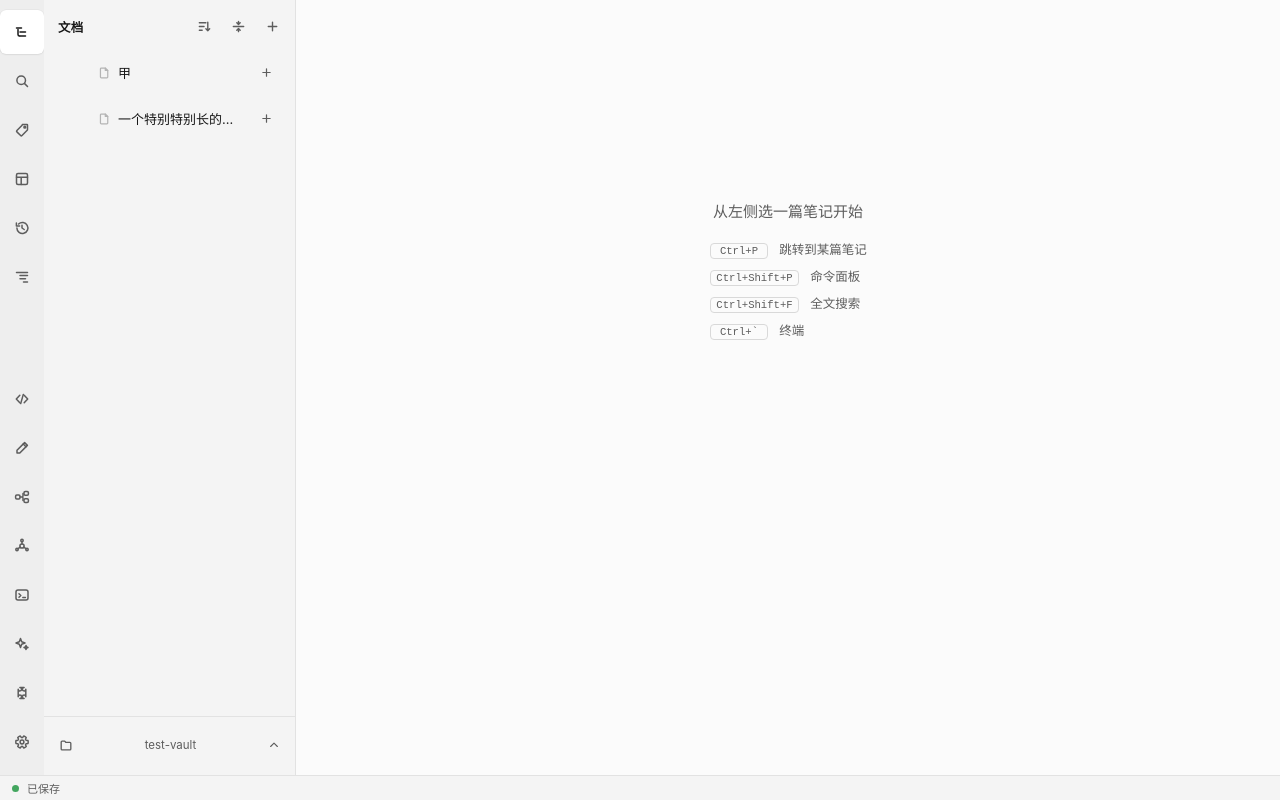
Test: 文档图标 › 右键 → 设置图标 → 选一个，写进 frontmatter 并显示在树上
This screenshot has width=1280, height=800.
Right-click the element with class "tree-row" showing "甲" at [188, 72], box [94, 50, 282, 94]
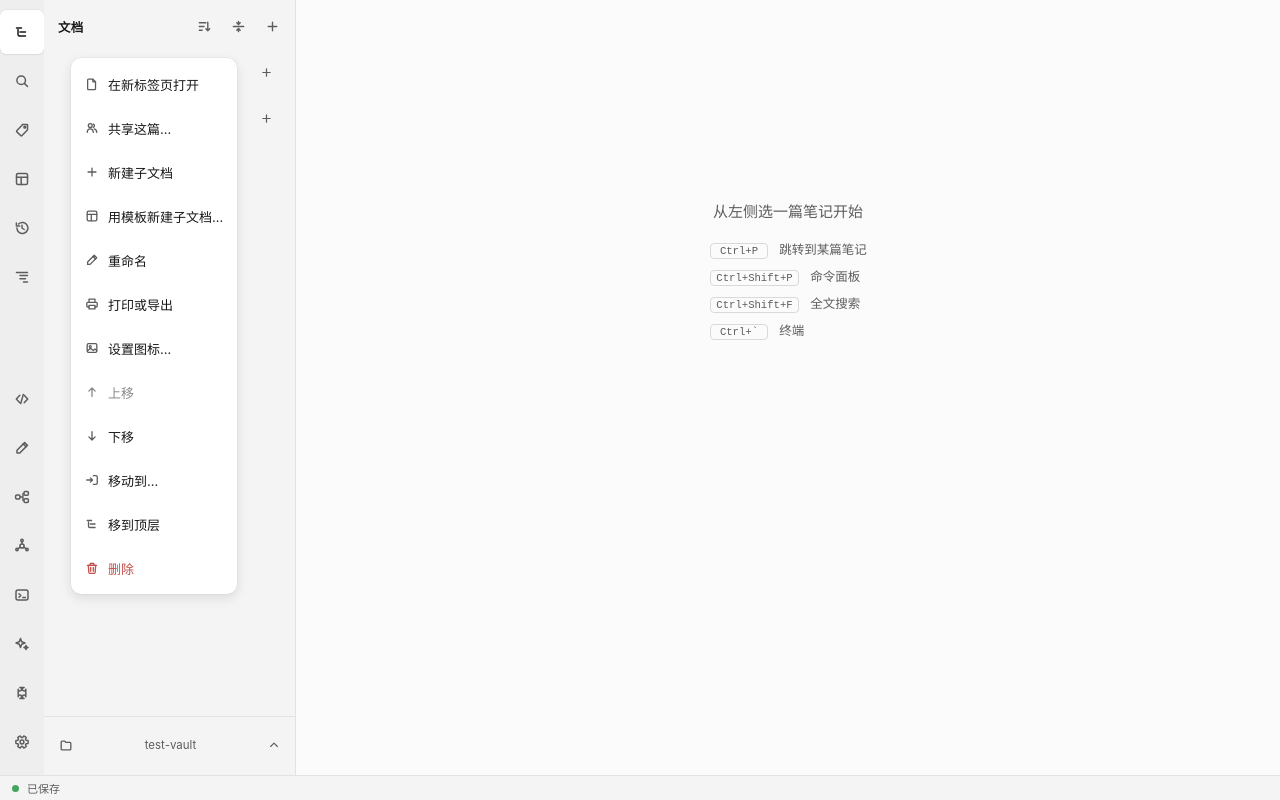
Now the button "设置图标…" is shown
Click the button "设置图标…". click: [154, 348]
box: [75, 326, 233, 370]
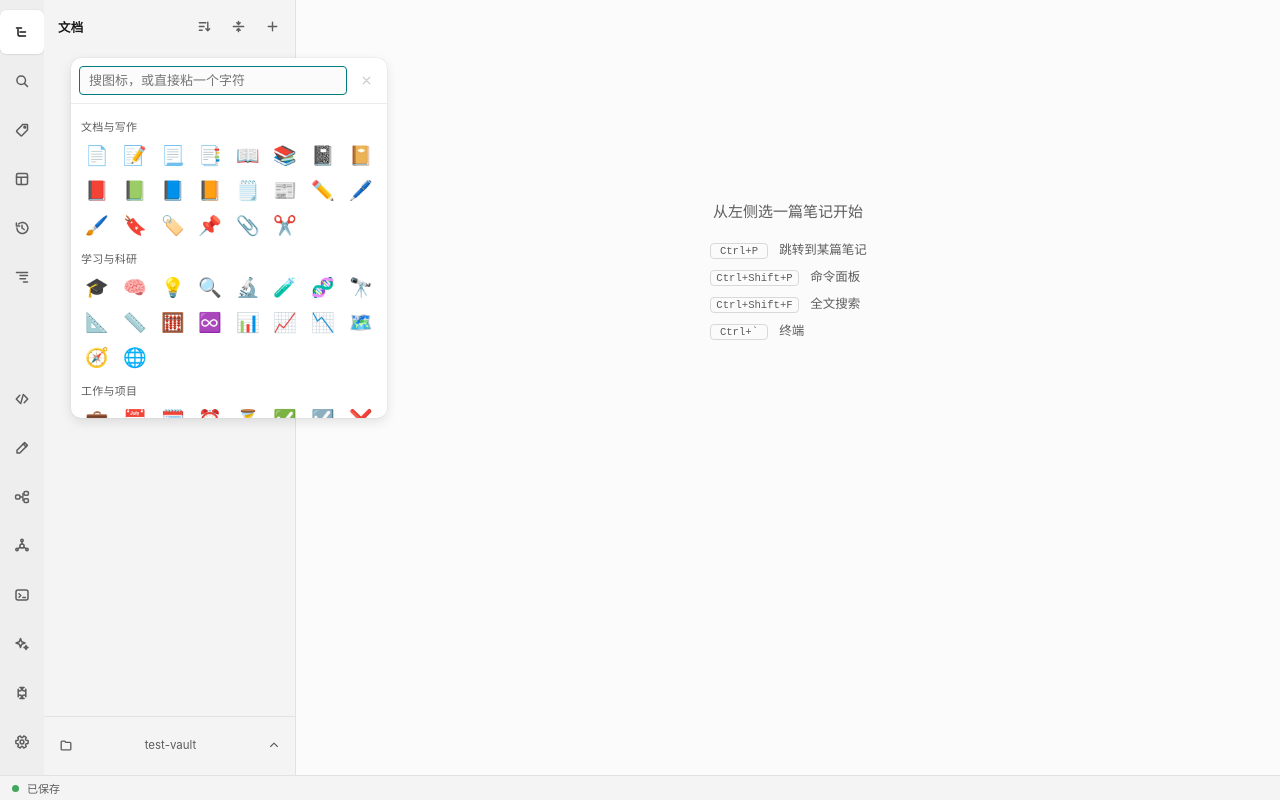
Now the dialog with class "icon-picker" is shown, box [71, 58, 387, 418]
Click the button with class "icon-cell" showing "📘". click: [173, 190]
box: [154, 173, 191, 207]
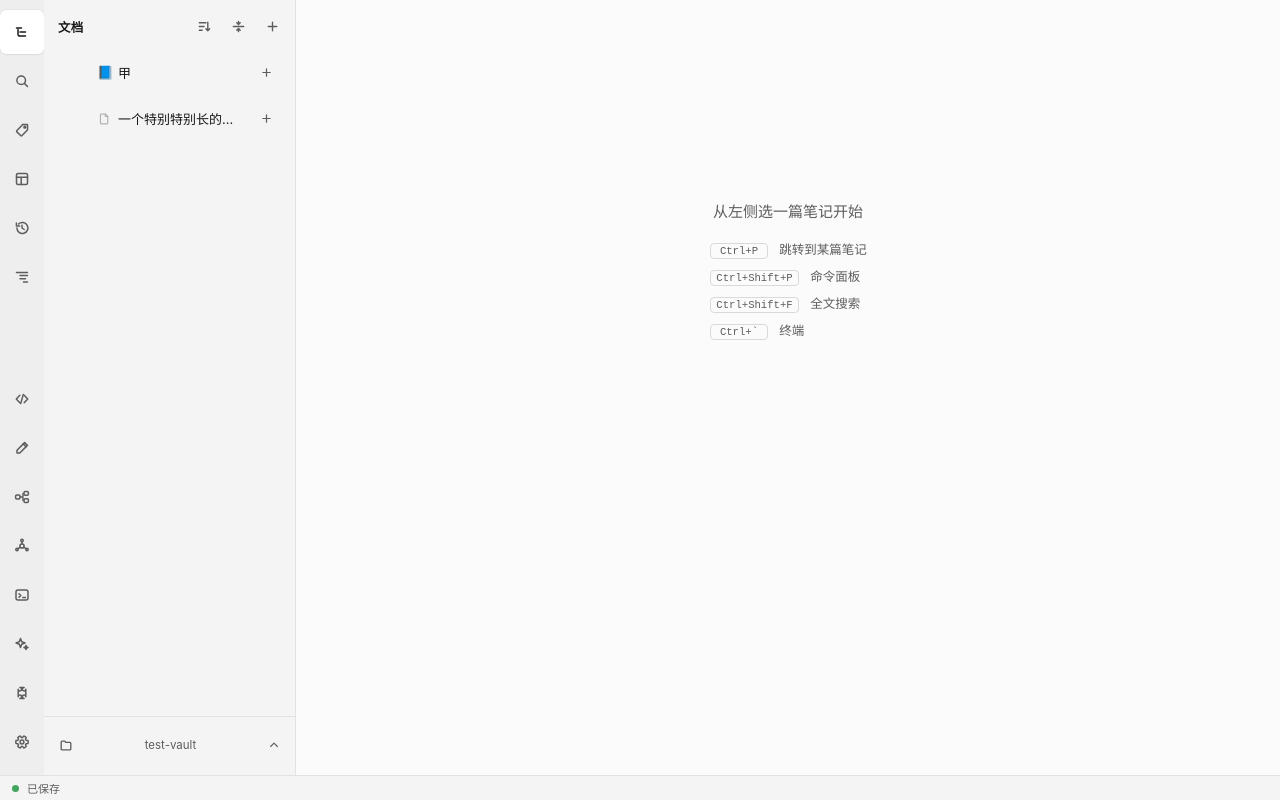
Now the dialog with class "icon-picker" is gone
Now the icon with class "tree-icon" reads "📘", box [96, 64, 112, 80]
